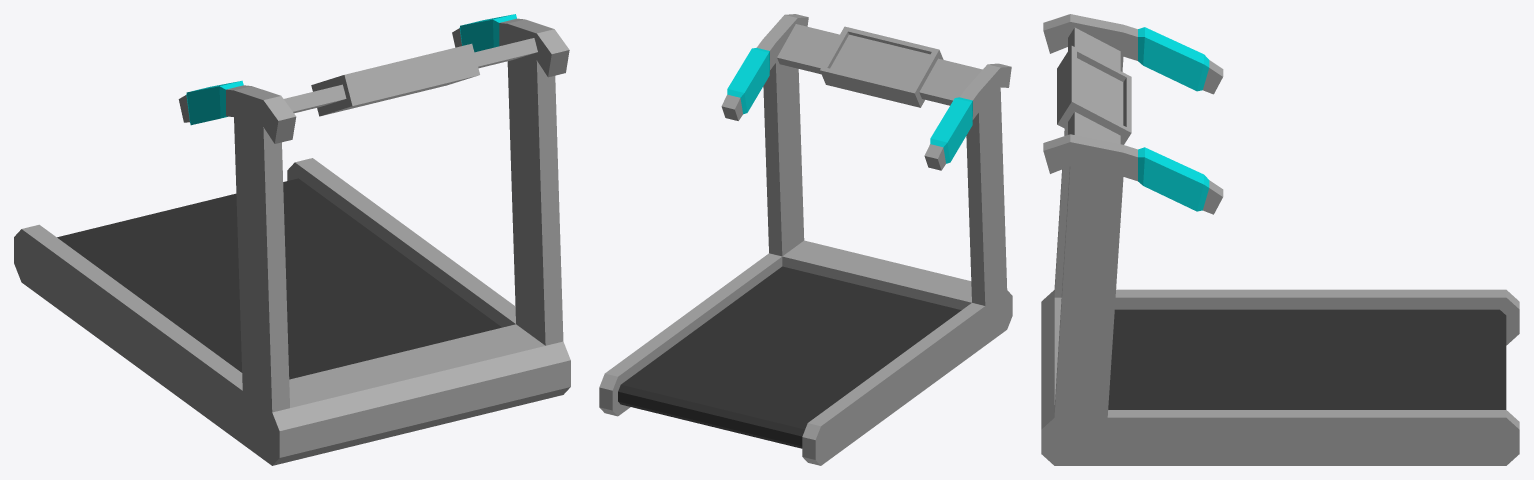
File: Tread.fbx
The picture shows the model from 3 angles, left to right: view 1: azimuth 30°, elevation 25°; view 2: azimuth 150°, elevation 25°; view 3: azimuth 270°, elevation 25°; orthographic projection. The views are drawn at different scales.
Visible parts, largest first — view 1: Treadmill_Panel1; view 2: Treadmill_Panel1; view 3: Treadmill_Panel1.
Boxes of the visible parts, x1,y1,x2,y2 form: Treadmill_Panel1: (14,14,570,465); Treadmill_Panel1: (599,14,1012,465); Treadmill_Panel1: (1041,14,1519,465).
Size of the model in its own units: 92.8 by 109 by 144.
